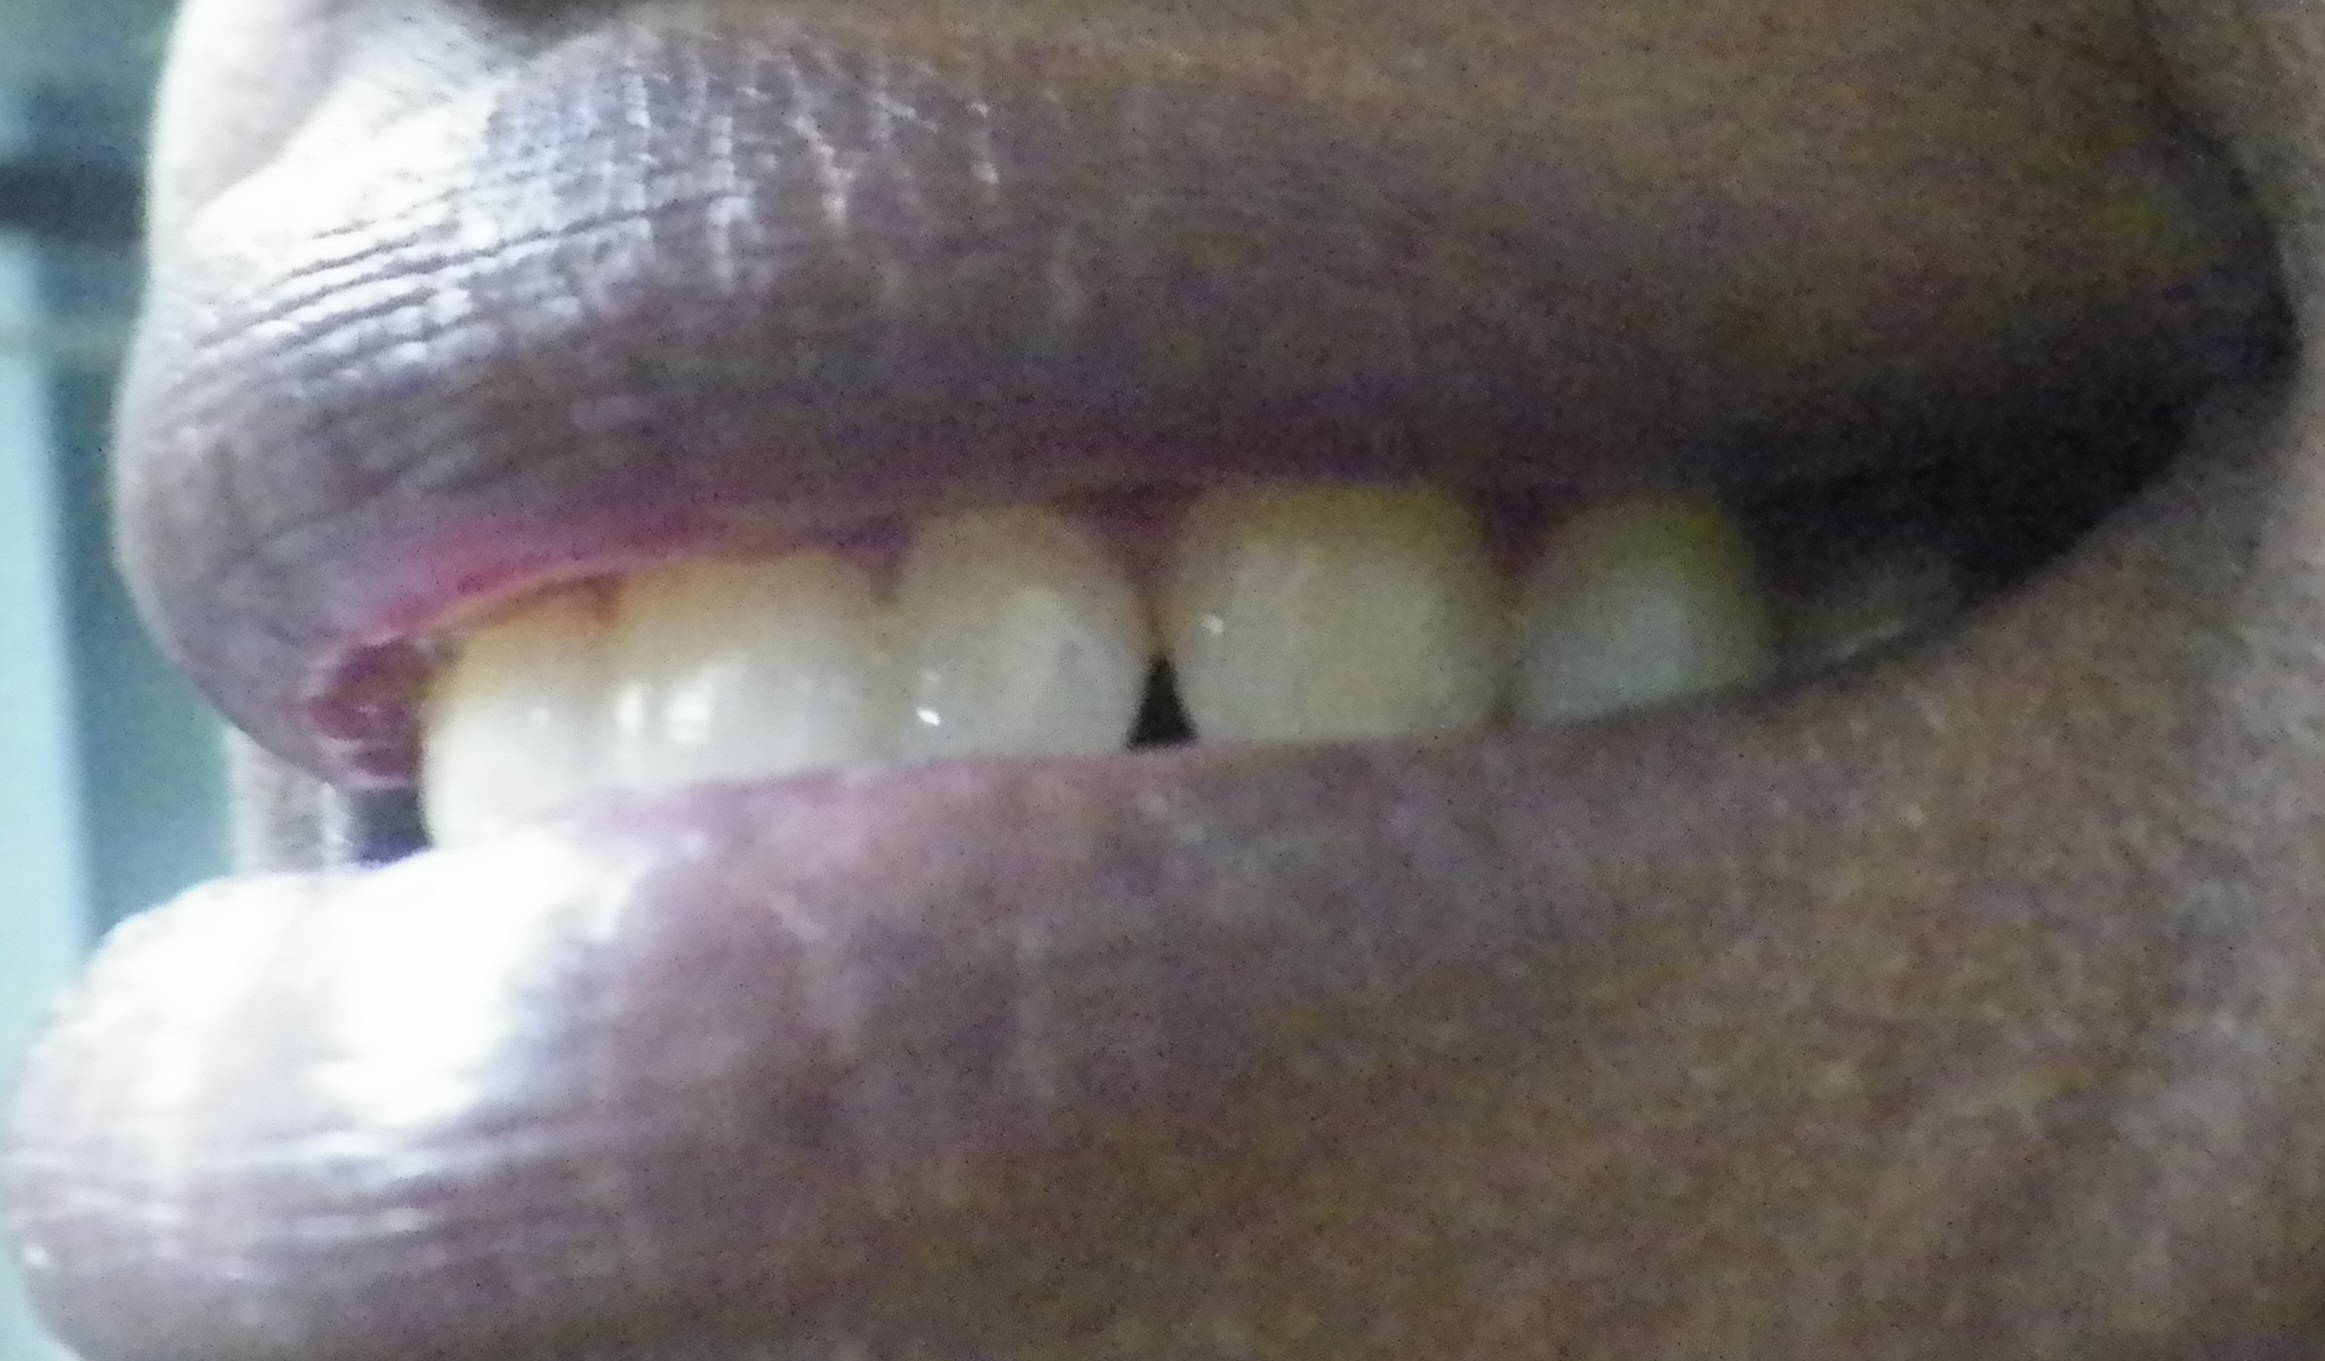boca: (413, 429, 1858, 883)
